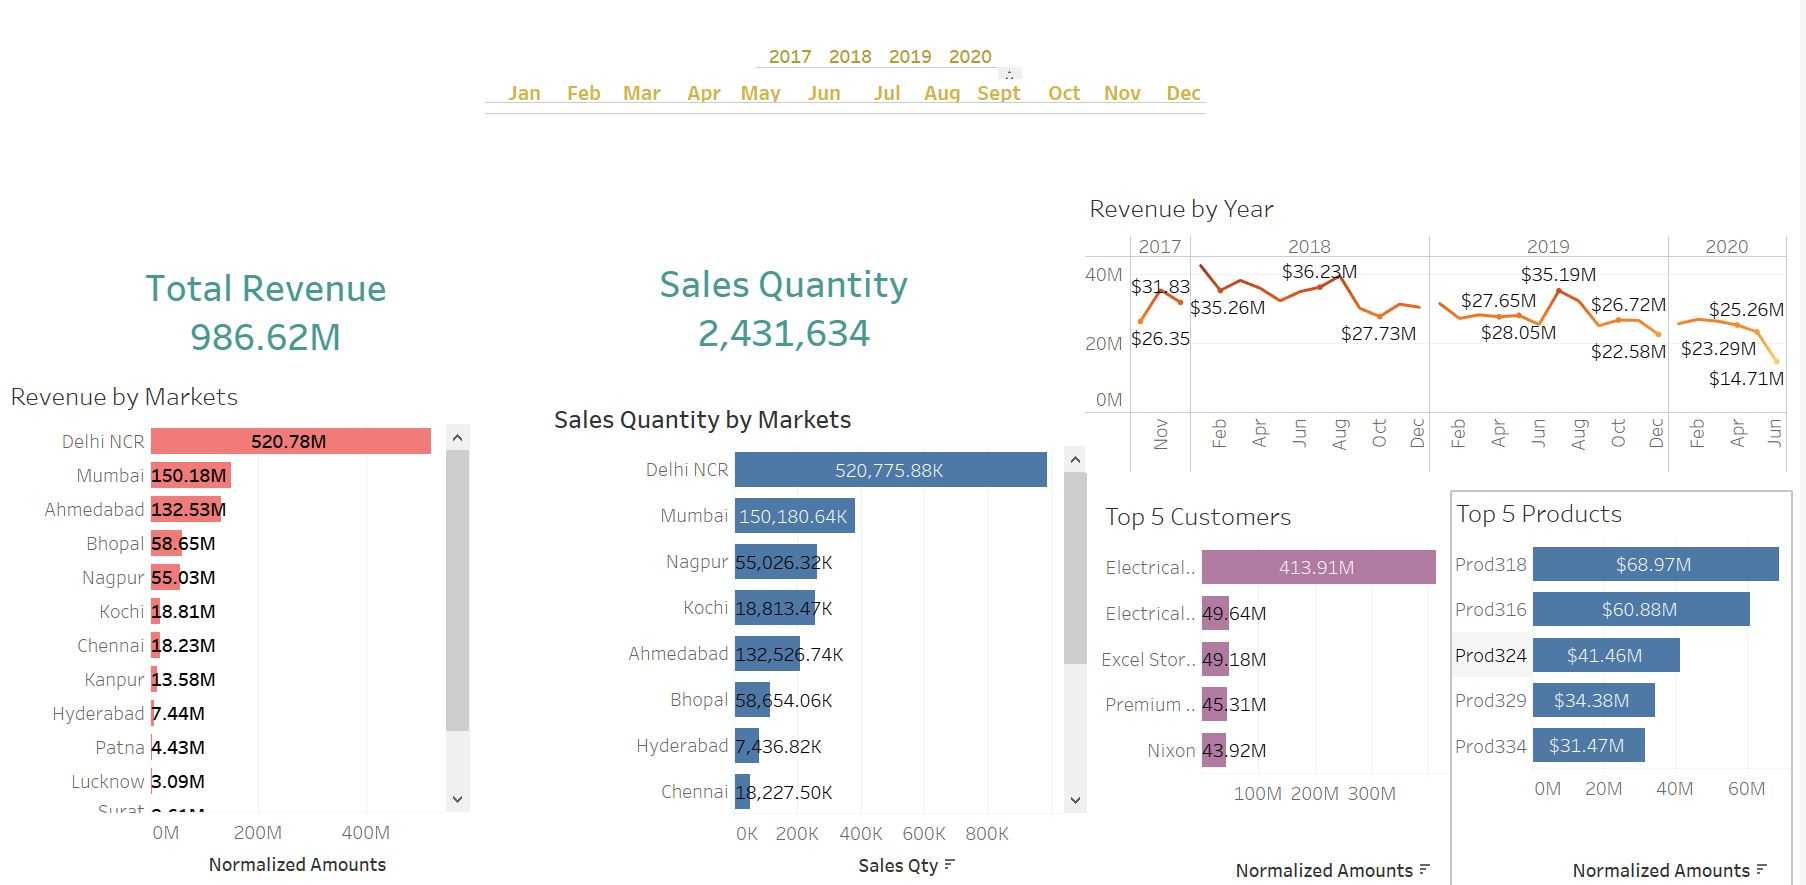

The dashboard page shown, as its layout file describes it:
{"tool":"tableau","page":{"name":"Dashboard 1","canvas":[1800,900],"ordinal":0},"visuals":[{"type":"worksheet","title":"Month","mark":"Automatic","cols":["cy_date"],"box":[485,93,870,64]},{"type":"worksheet","title":"Revenue by Year","mark":"Automatic","rows":["Calculation_236720500898033664"],"cols":["cy_date","cy_date"],"box":[1085,198,703,286]},{"type":"worksheet","title":"Quantity","mark":"Automatic","box":[590.4,248,387.6,141]},{"type":"worksheet","title":"Revenue","mark":"Automatic","box":[104.4,260,322.8,126]},{"type":"worksheet","title":"Revenue by Markets","mark":"Automatic","rows":["markets_name"],"cols":["Calculation_236720500898033664"],"box":[6,386,464.4,508]},{"type":"worksheet","title":"Sales Quantity by Markets","mark":"Automatic","rows":["markets_name"],"cols":["sales_qty"],"box":[549.6,409,537.6,486]},{"type":"worksheet","title":"Top 5 Products","mark":"Automatic","rows":["product_code"],"cols":["Calculation_236720500898033664"],"box":[1452,503,339,397]},{"type":"worksheet","title":"Top 5 Customers","mark":"Automatic","rows":["custmer_name"],"cols":["Calculation_236720500898033664"],"box":[1101,506,347,394]}]}

Visuals, with their boxes in screenshot pixels (x1, y1, x2, y2), scaled from the page's 1800x900 canvas onto the 1806x885 screenshot:
"Month" worksheet: left=487, top=91, right=1360, bottom=154
"Revenue by Year" worksheet: left=1089, top=195, right=1794, bottom=476
"Quantity" worksheet: left=592, top=244, right=981, bottom=383
"Revenue" worksheet: left=105, top=256, right=429, bottom=380
"Revenue by Markets" worksheet: left=6, top=380, right=472, bottom=879
"Sales Quantity by Markets" worksheet: left=551, top=402, right=1091, bottom=880
"Top 5 Products" worksheet: left=1457, top=495, right=1797, bottom=884
"Top 5 Customers" worksheet: left=1105, top=498, right=1453, bottom=884
